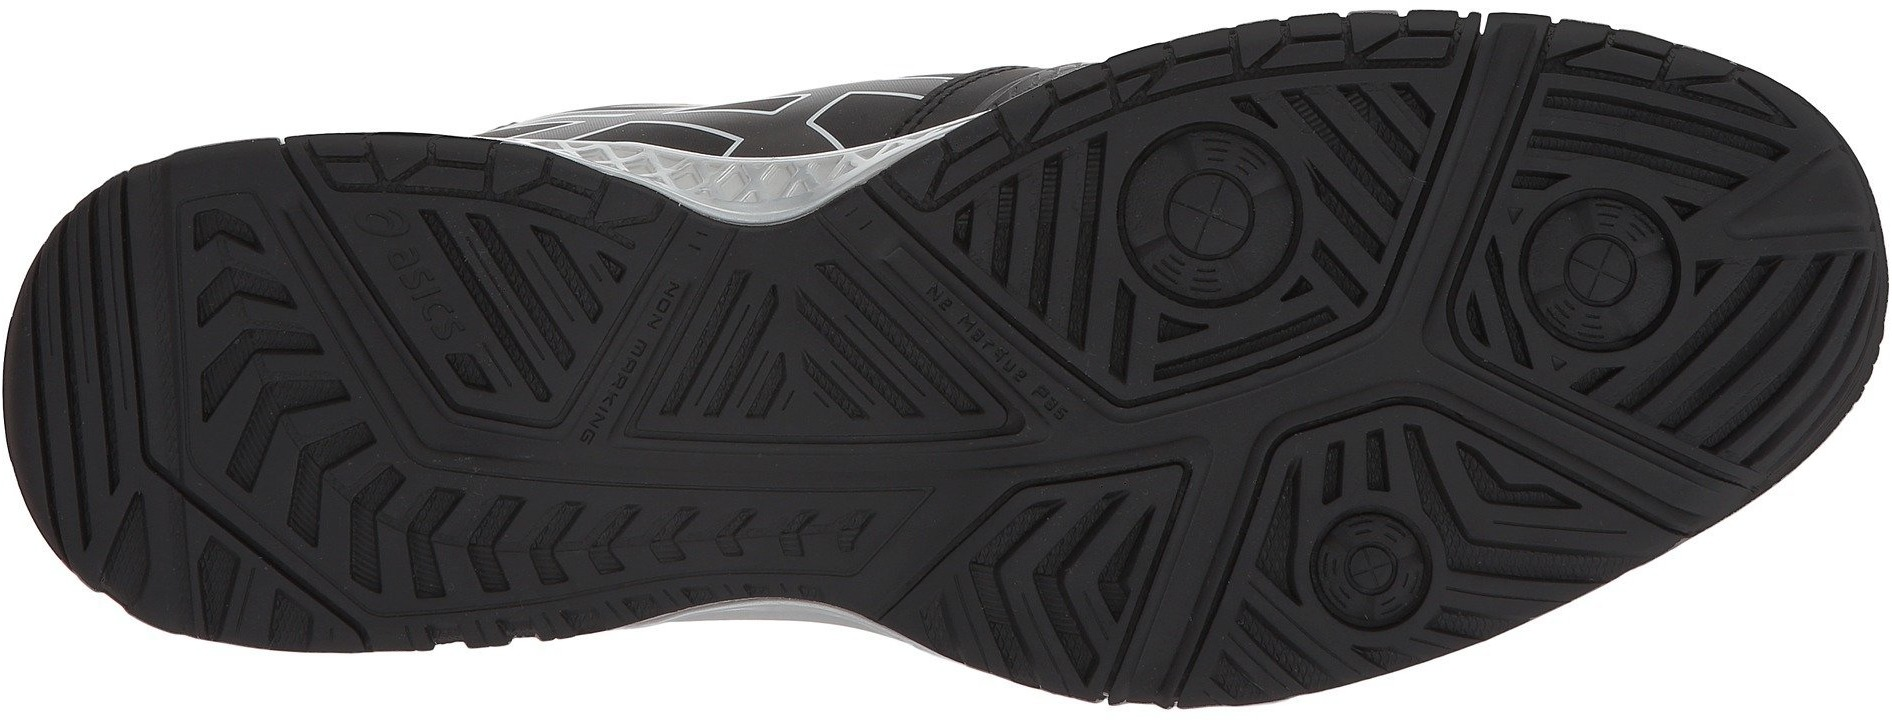chevron: (960, 474, 1154, 674), (183, 321, 383, 508), (1440, 380, 1618, 556), (422, 470, 580, 612), (611, 468, 730, 610)
circle: (1088, 100, 1343, 316), (1505, 172, 1704, 363), (1260, 485, 1467, 660)
line: (1088, 100, 1343, 316), (573, 260, 793, 447), (1505, 172, 1704, 363), (1260, 485, 1467, 660), (884, 259, 1081, 438), (348, 193, 538, 367), (1440, 380, 1618, 556), (1703, 270, 1853, 424), (1110, 29, 1265, 128)
quad: (573, 260, 793, 447), (884, 259, 1081, 438), (1280, 65, 1433, 219), (12, 294, 160, 432), (1110, 29, 1265, 128)
text: (573, 260, 793, 447), (884, 259, 1081, 438), (348, 193, 538, 367)
triangle: (1505, 172, 1704, 363), (1110, 29, 1265, 128)
